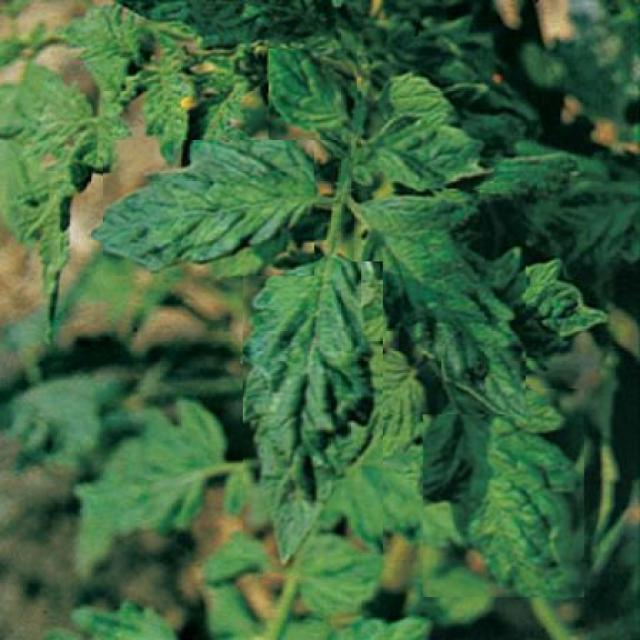Mosaic Virus: (243, 262, 383, 554), (355, 192, 526, 414), (423, 388, 584, 598), (103, 140, 314, 276), (348, 128, 495, 189), (269, 49, 358, 141)
